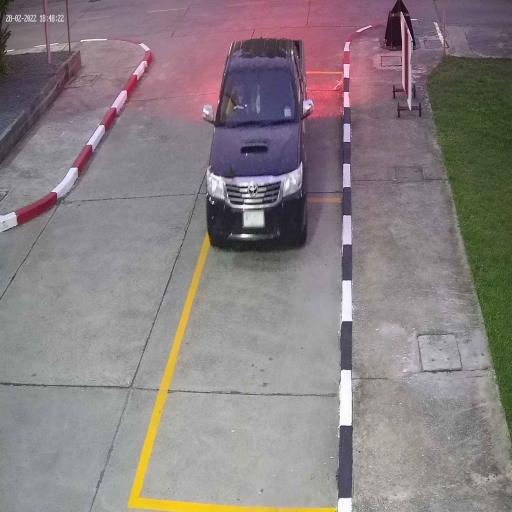car: (208, 38, 306, 246)
